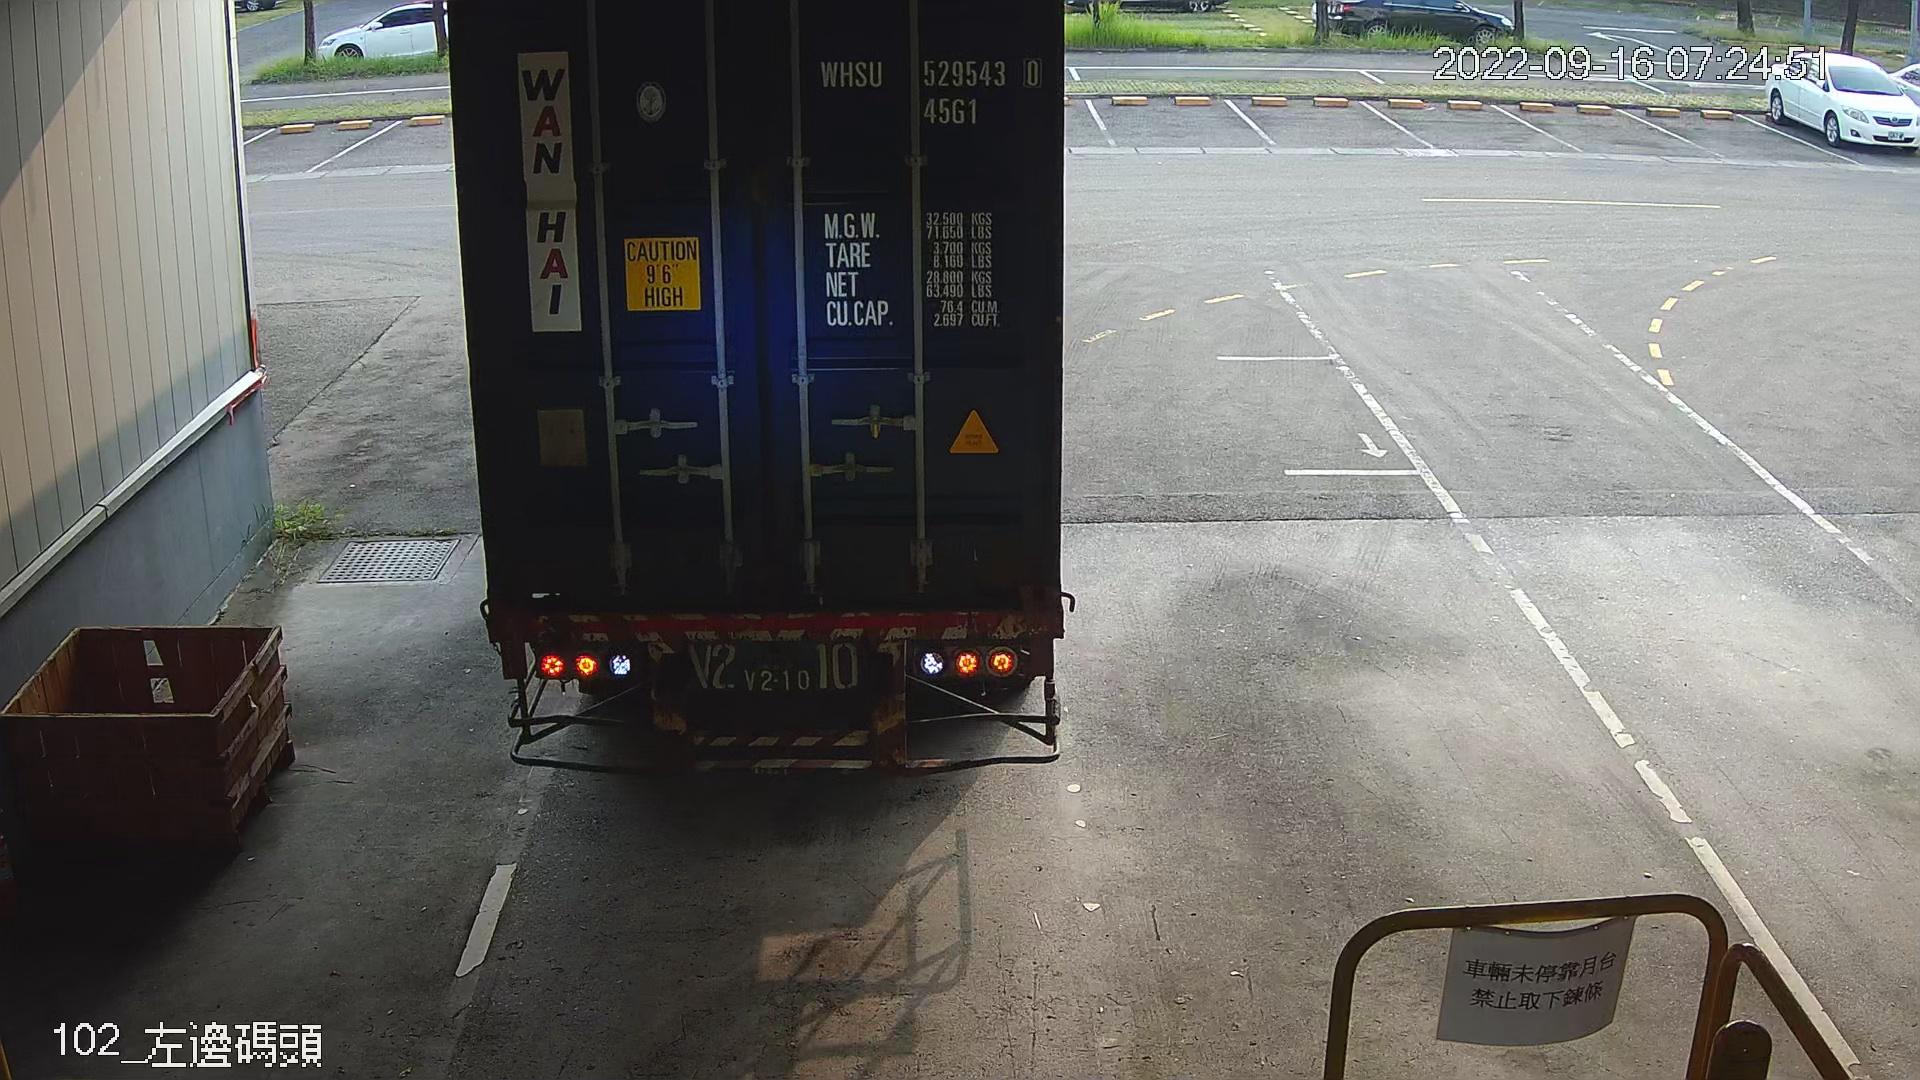container: (808, 45, 1054, 133)
